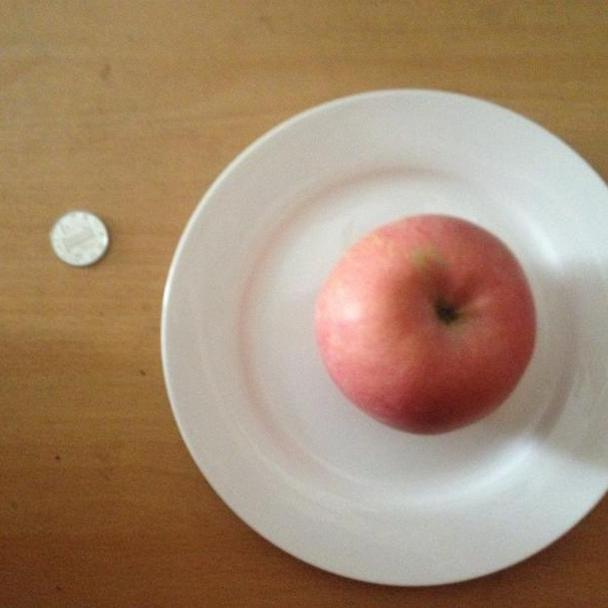apple: (315, 212, 542, 435)
